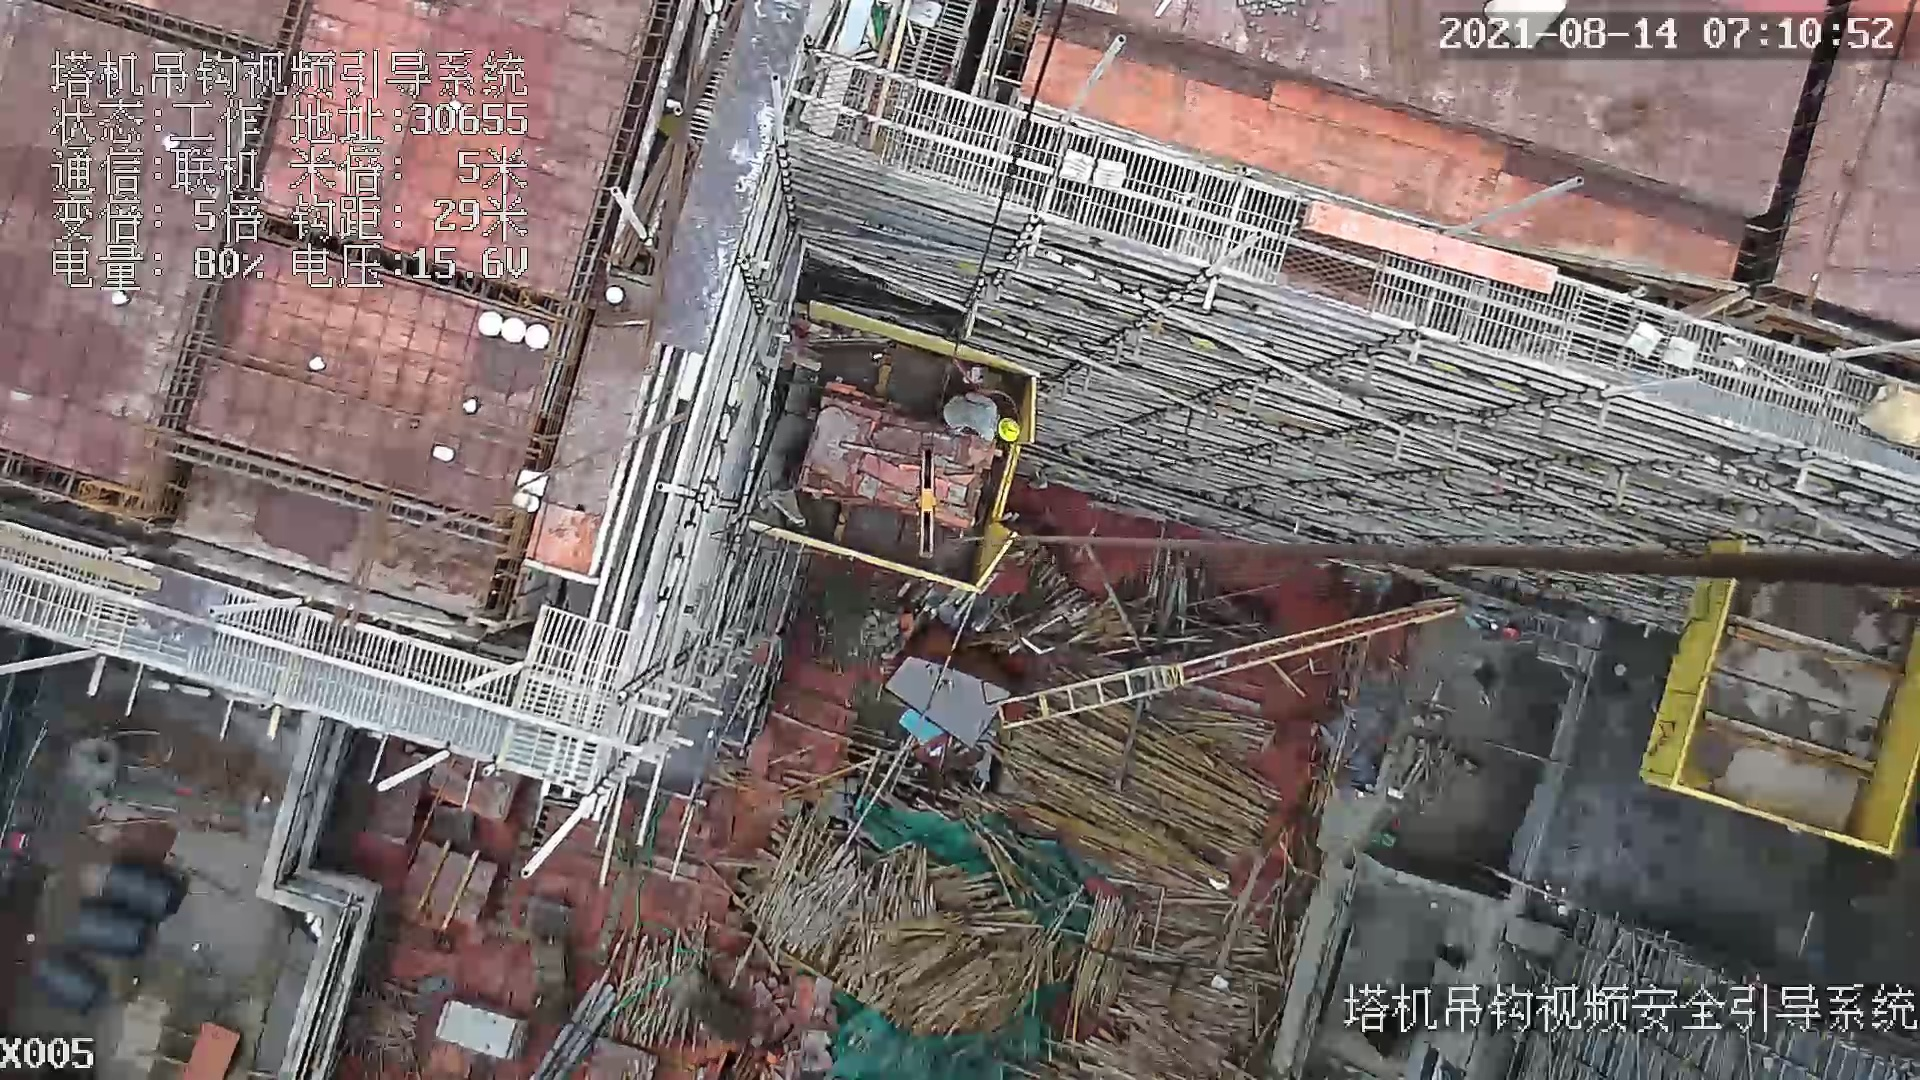helmet: (997, 416, 1020, 444)
hook: (899, 440, 941, 563)
person: (933, 394, 1022, 451)
